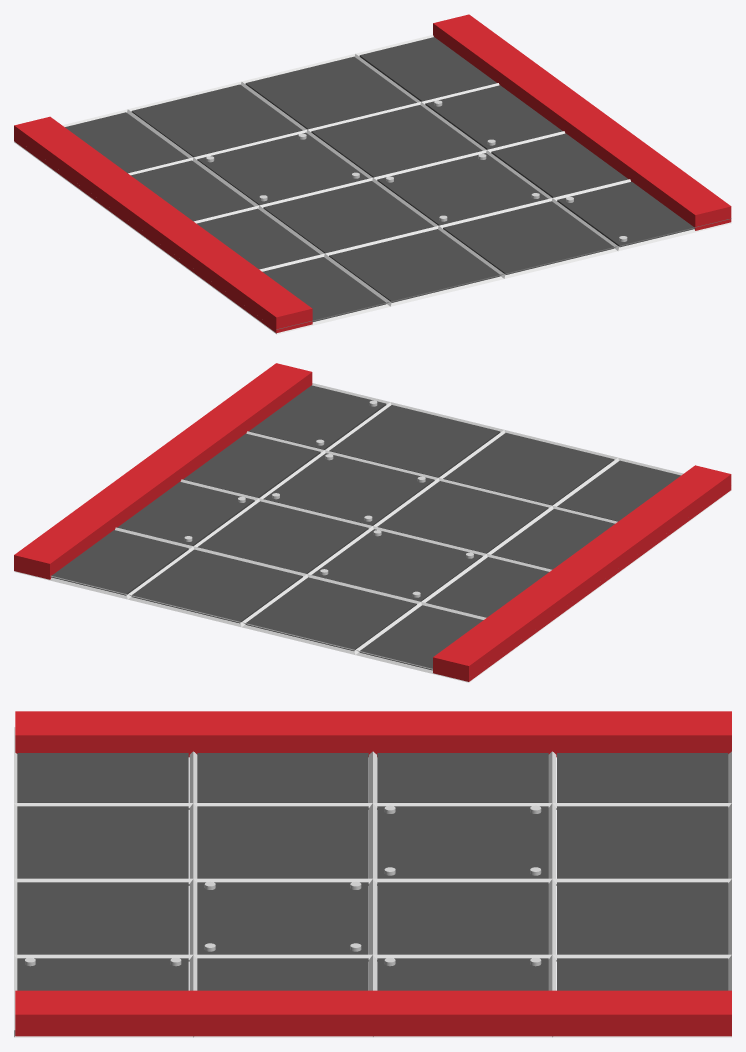
File: Straight.fbx
The picture shows the model from 3 angles, top to bottom: view 1: azimuth 30°, elevation 25°; view 2: azimuth 150°, elevation 25°; view 3: azimuth 270°, elevation 25°; orthographic projection. The views are drawn at different scales.
Parts seen in each view (by area): view 1: Base.002, Cube.002, Plane.002, Cylinder.002; view 2: Base.002, Cube.002, Plane.002, Cylinder.002; view 3: Base.002, Cube.002, Plane.002, Cylinder.002.
Boxes of the visible parts, box(x1,y1,x2,y2) form: Base.002: box(65, 37, 694, 321); Cube.002: box(14, 14, 731, 333); Plane.002: box(14, 35, 731, 334); Cylinder.002: box(206, 100, 627, 241); Base.002: box(51, 385, 680, 670); Cube.002: box(14, 363, 731, 681); Plane.002: box(14, 383, 731, 682); Cylinder.002: box(184, 400, 473, 597); Base.002: box(17, 753, 728, 990); Cube.002: box(15, 711, 731, 1036); Plane.002: box(14, 727, 731, 1037); Cylinder.002: box(25, 805, 541, 966).
Bounding box in the file's own units: 1.01 × 0.0368 × 1.01.
